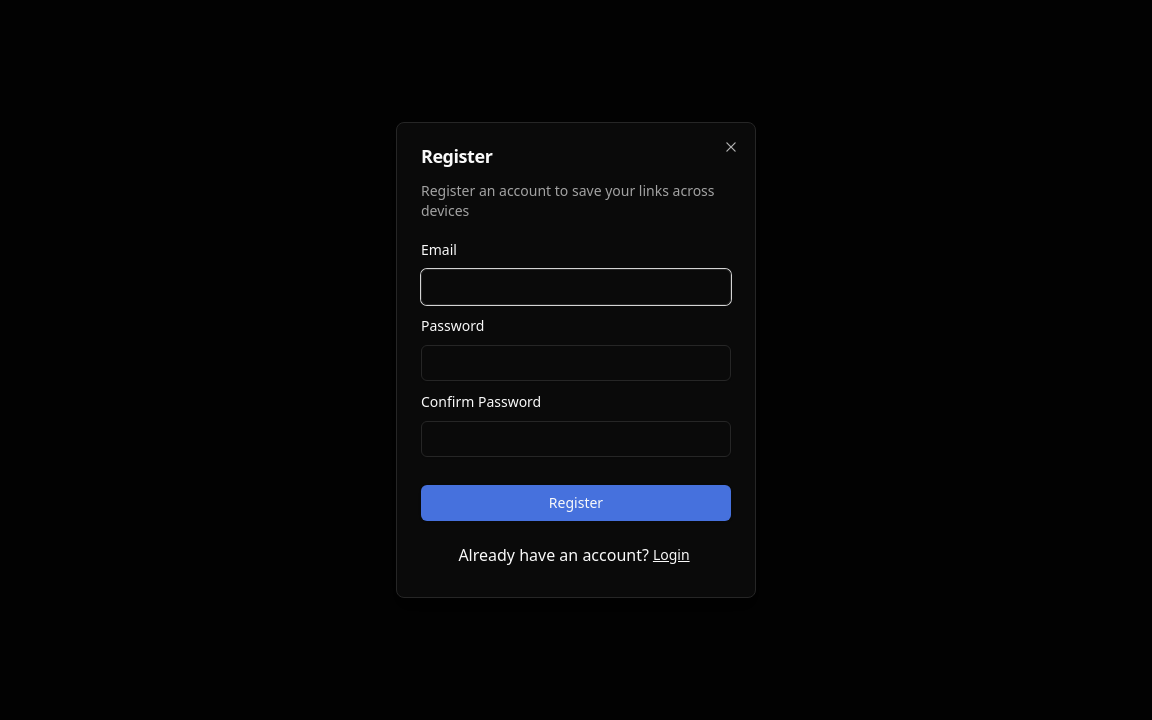
LoginRegister › should show error message when account already exists
In the field labelled "Email": coordinates (576, 287) [421, 269, 731, 305], type "test@email.com"
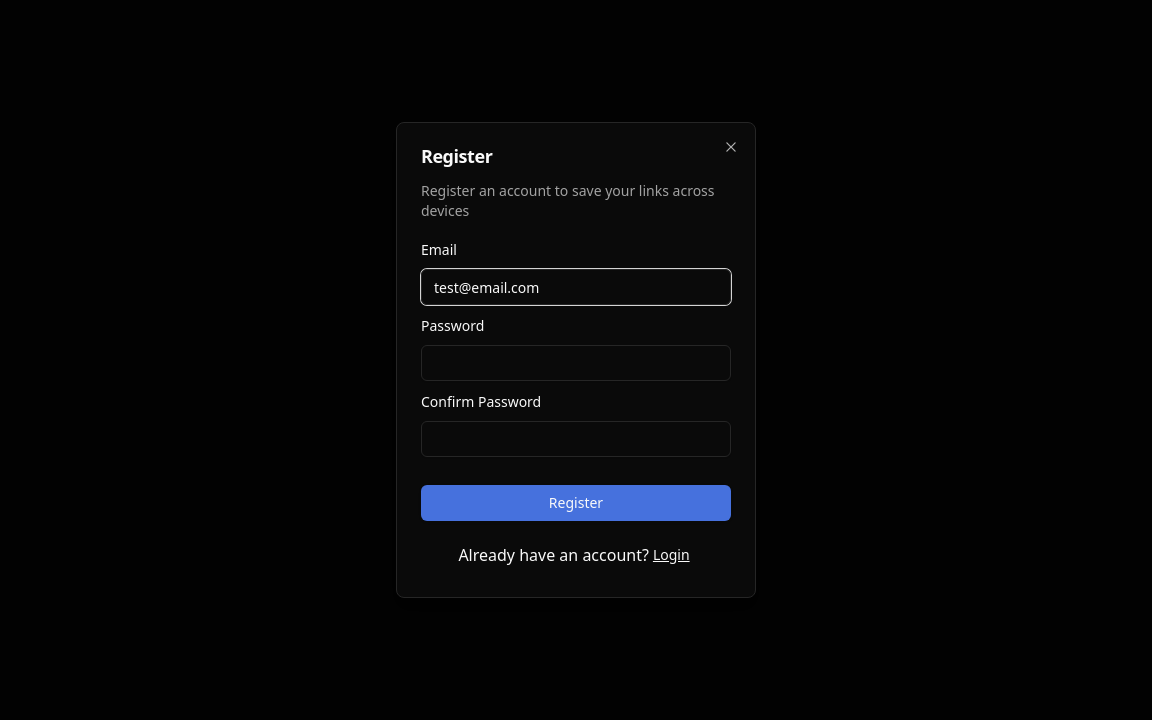
In the password field labelled "Password": coordinates (576, 363) [421, 345, 731, 381], type "password"
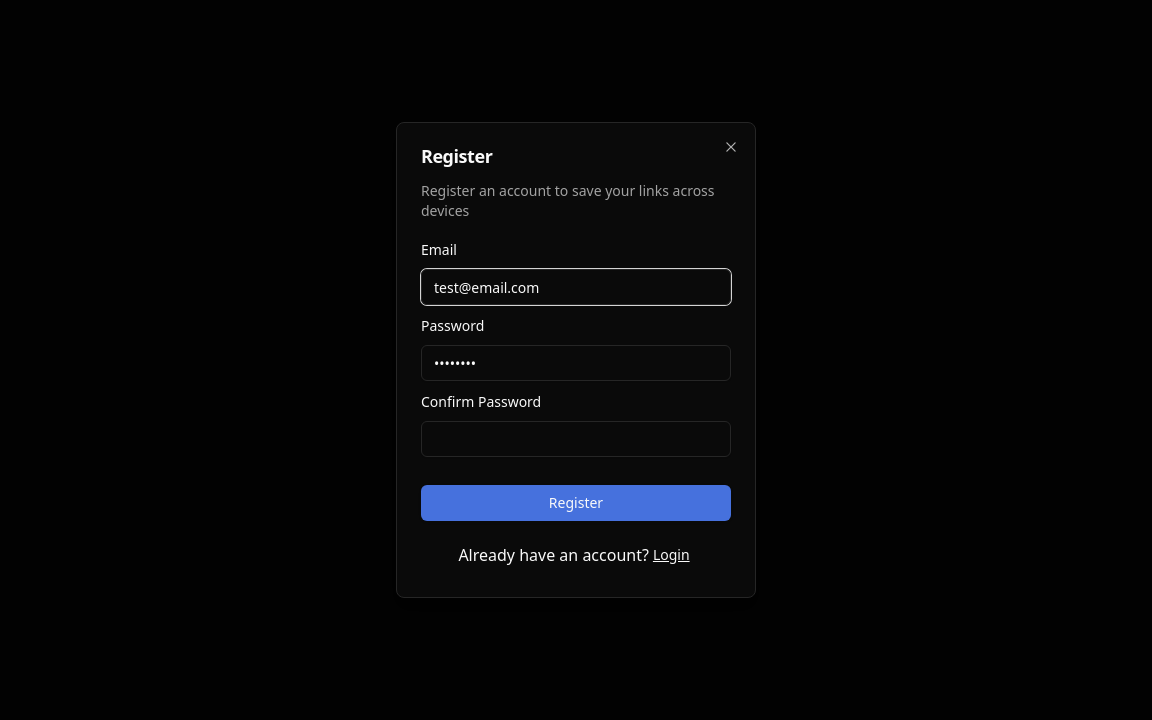
In the password field labelled "Confirm Password": coordinates (576, 439) [421, 421, 731, 457], type "password"
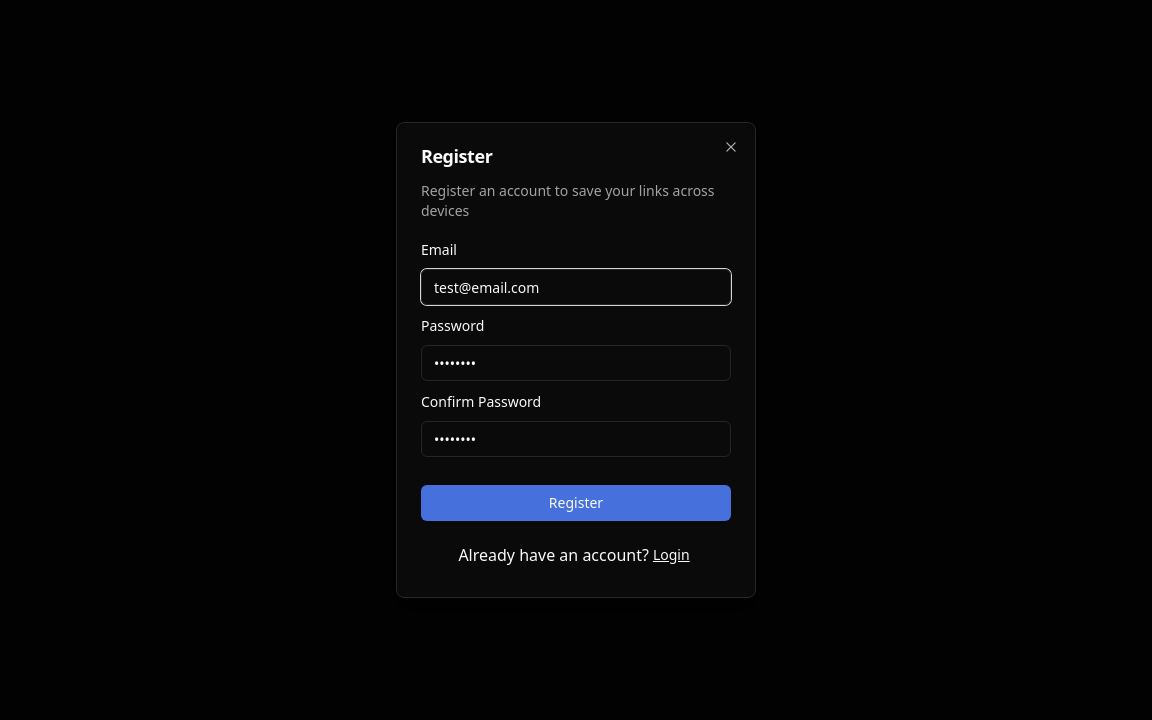
Click the button "Register": coordinates (576, 503) [421, 485, 731, 521]
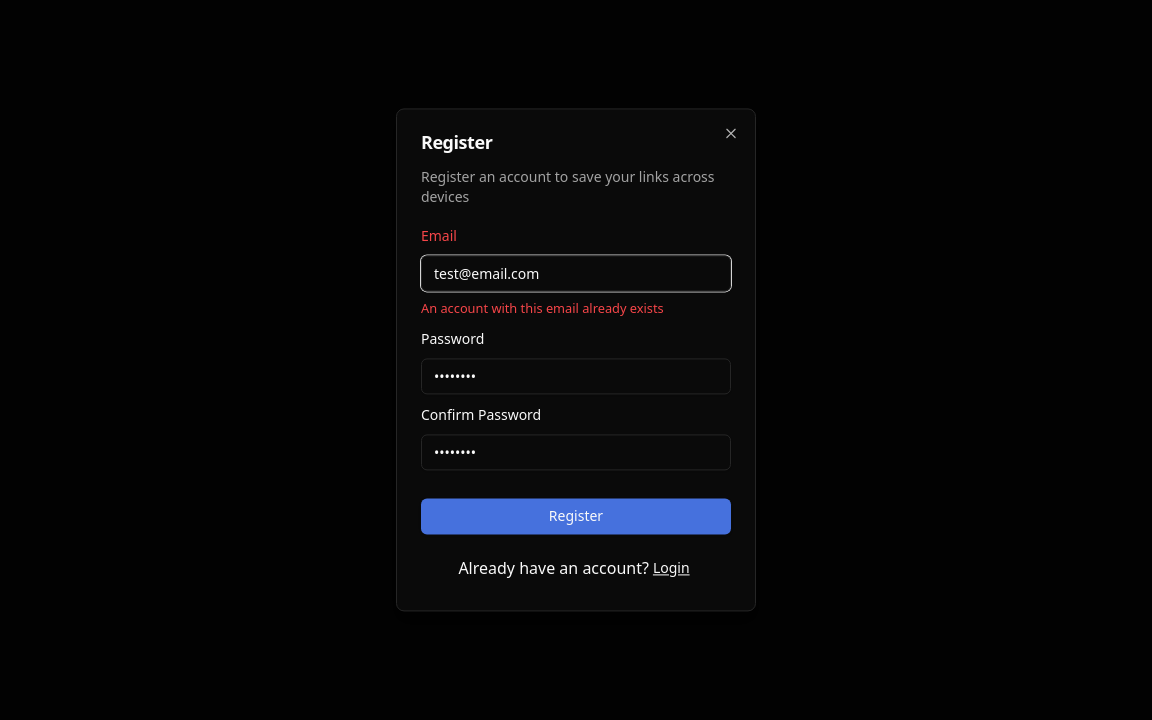
Expected: the text "An account with this email already exists" is shown, [421, 299, 664, 317]
